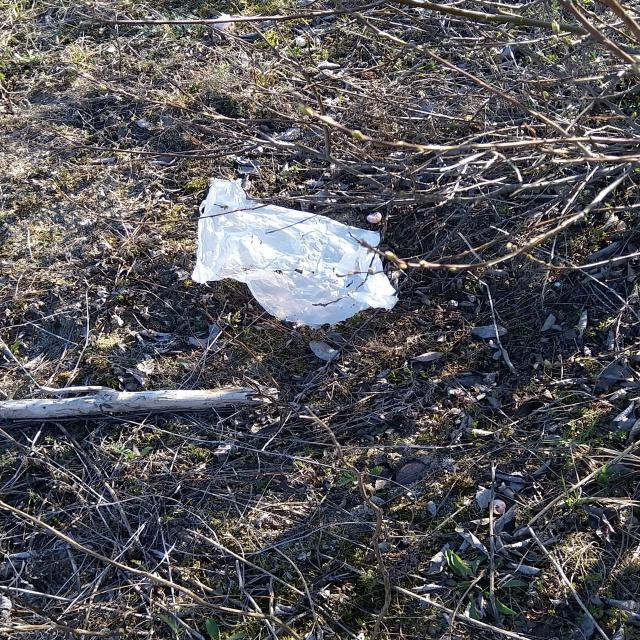litter: (191, 177, 399, 329), (214, 14, 235, 33)
